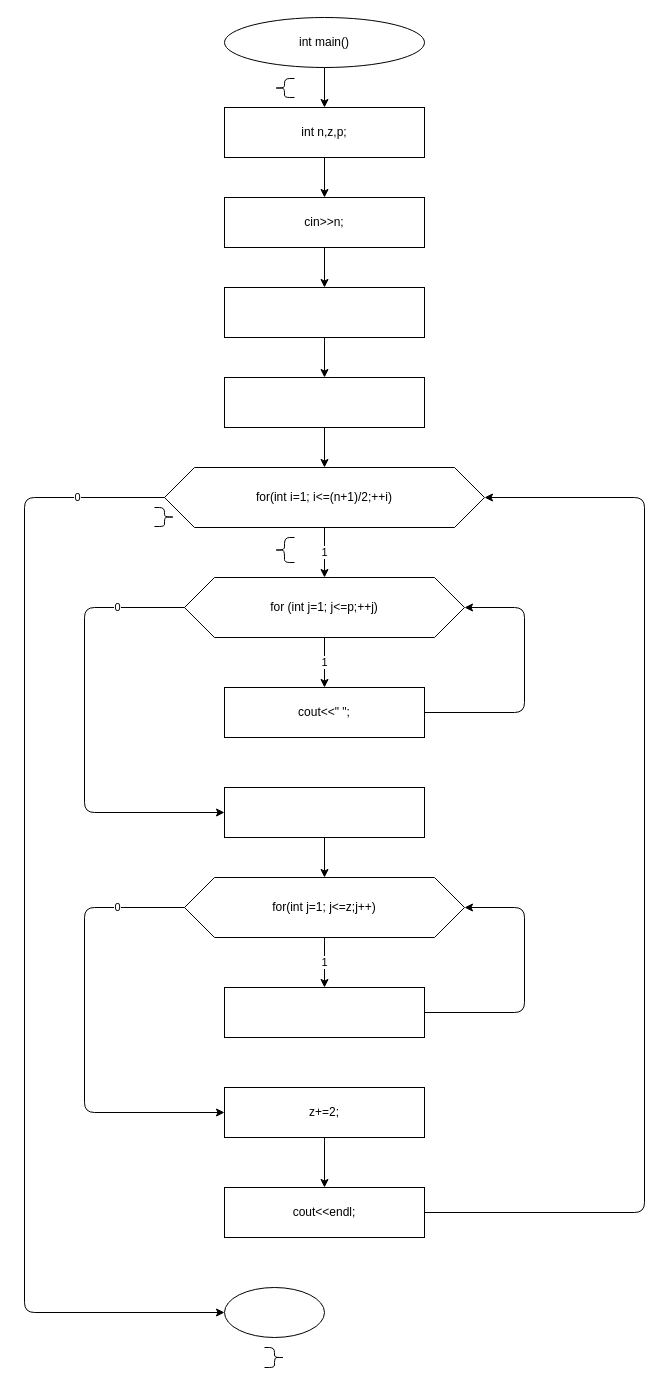
Image size: 670x1385. Some labels were removed from this diagram. Each missing label, with the centre of its shape:
cout<<"*";: (324,1012)
p=n/2;: (324,402)
p=p-1;: (324,812)
return 0;: (274,1312)
z=1;: (324,312)
